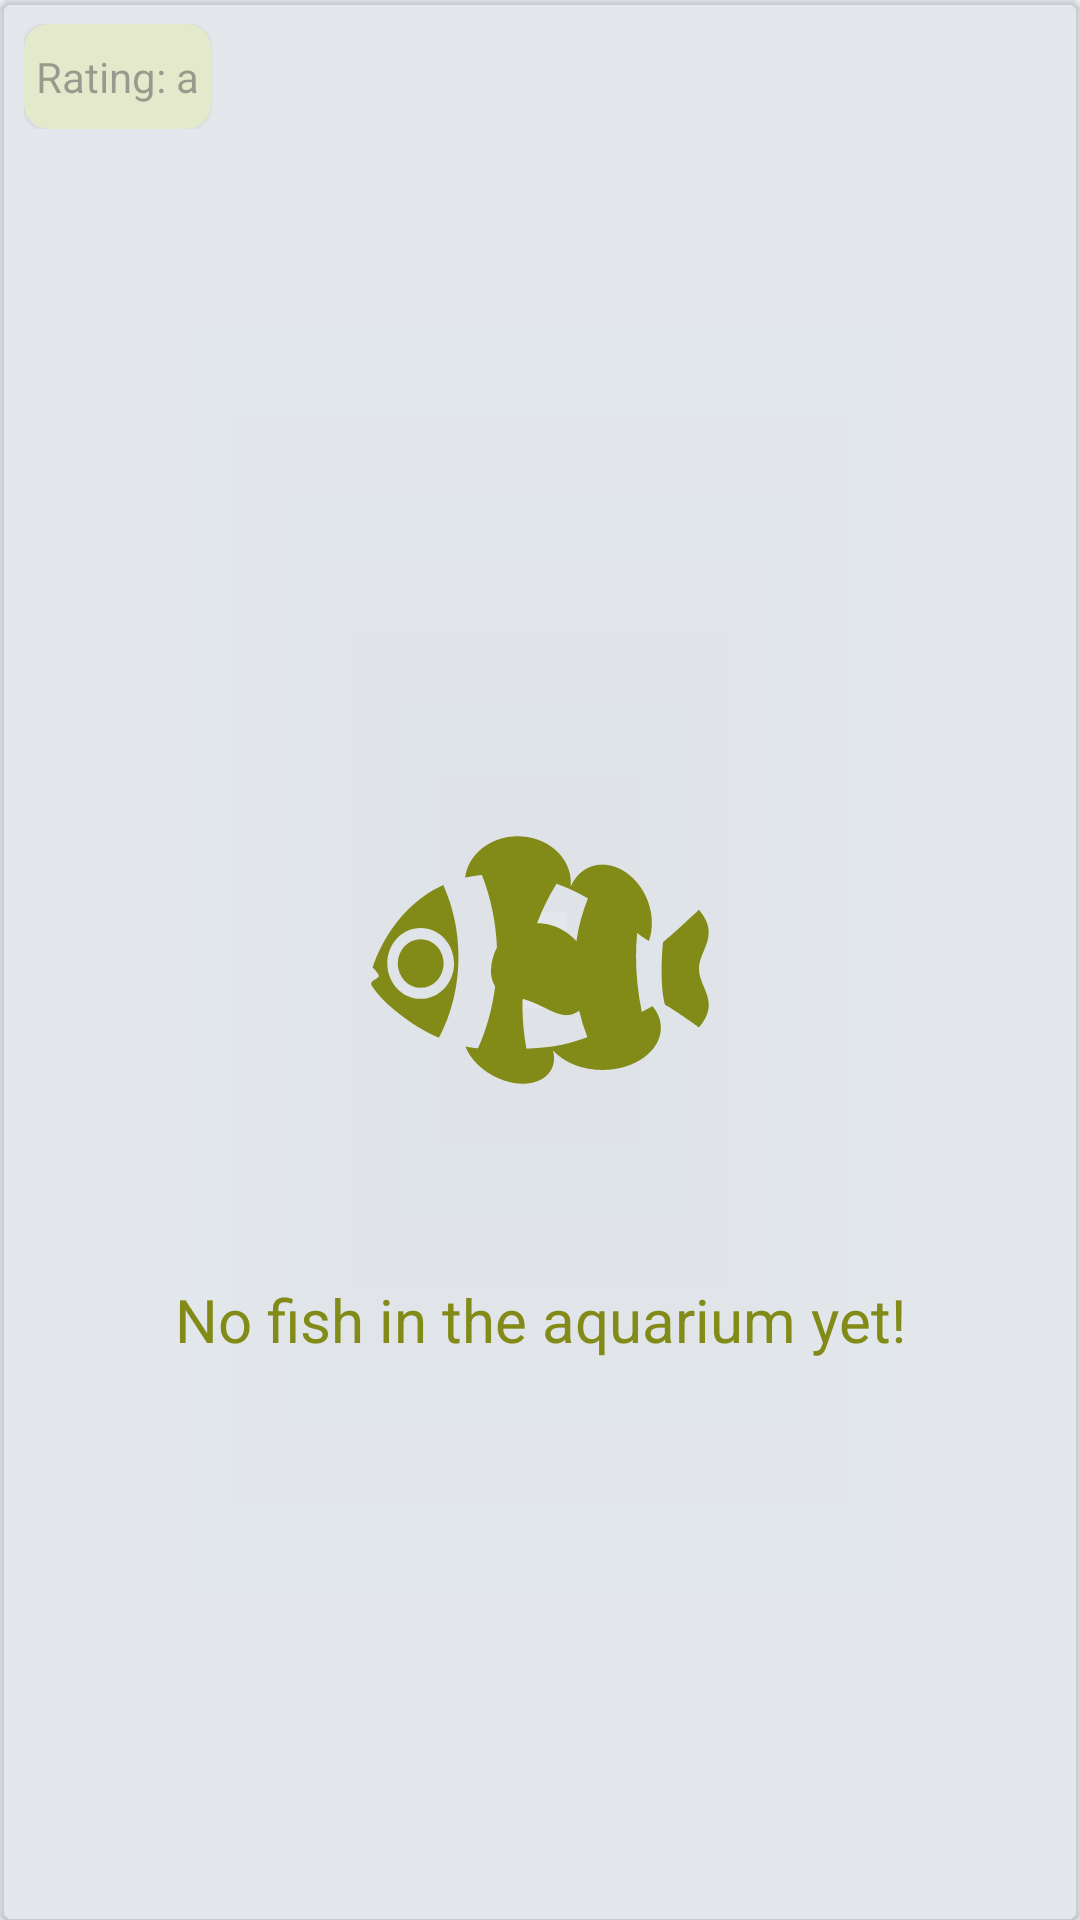

Named icons in this screenshot (1080w x 1920h) and their bounding boxes, (x1, y1, x2, y2):
fishoftheday home: (371, 836, 709, 1084)
